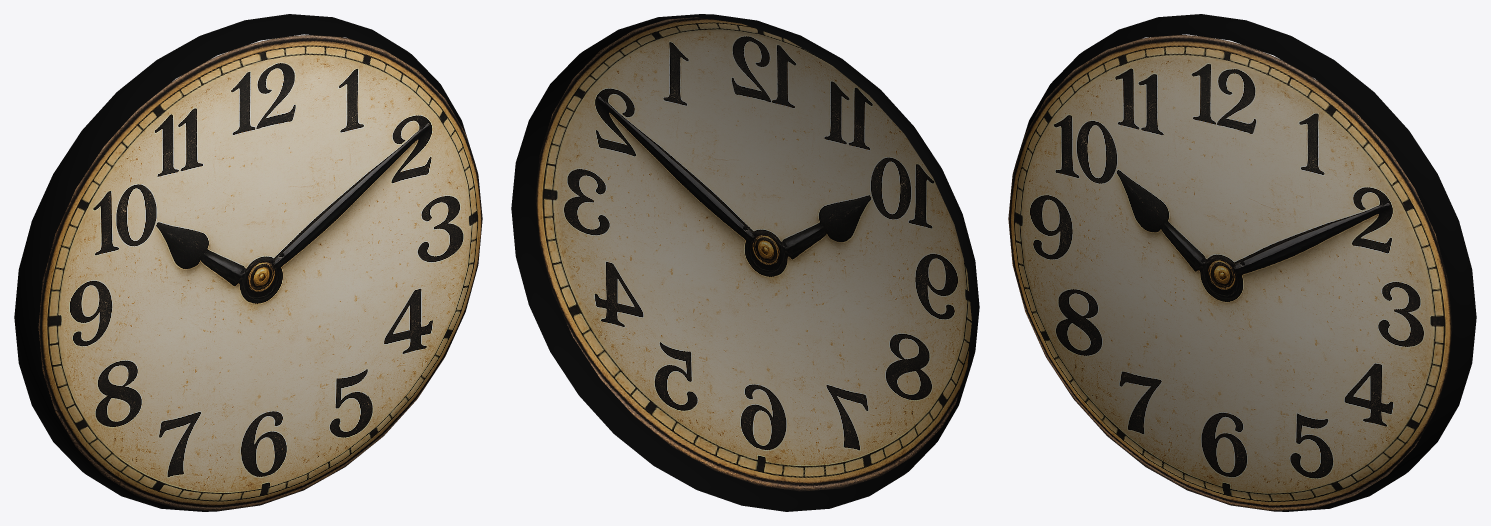
Rendered from Wall_Clock.fbx.
The picture shows the model from 3 angles, left to right: view 1: azimuth 30°, elevation 25°; view 2: azimuth 150°, elevation 25°; view 3: azimuth 330°, elevation 25°; orthographic projection.
Parts seen in each view (by area): view 1: Wall Clock; view 2: Wall Clock; view 3: Wall Clock.
Boxes of the visible parts, left/top/right/bottom form: Wall Clock: left=14, top=14, right=482, bottom=511; Wall Clock: left=511, top=14, right=979, bottom=511; Wall Clock: left=1008, top=14, right=1476, bottom=511.
Bounding box in the file's own units: 58 × 58 × 4.5.
Materials: 2 (1 with a texture image).
